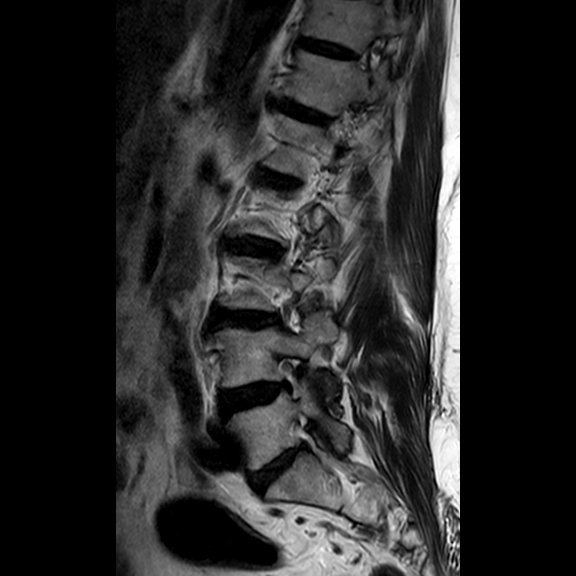LFS0: (264, 341, 314, 402)
